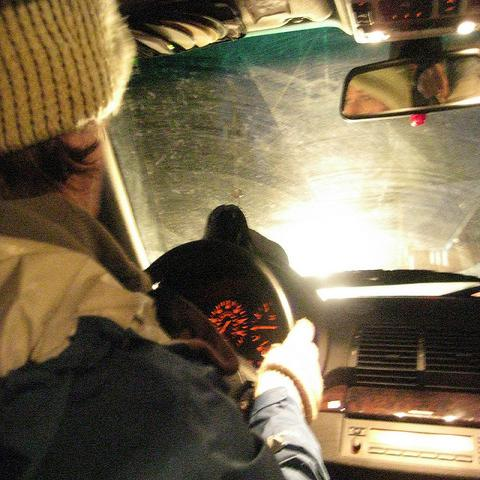car: (96, 1, 479, 473)
